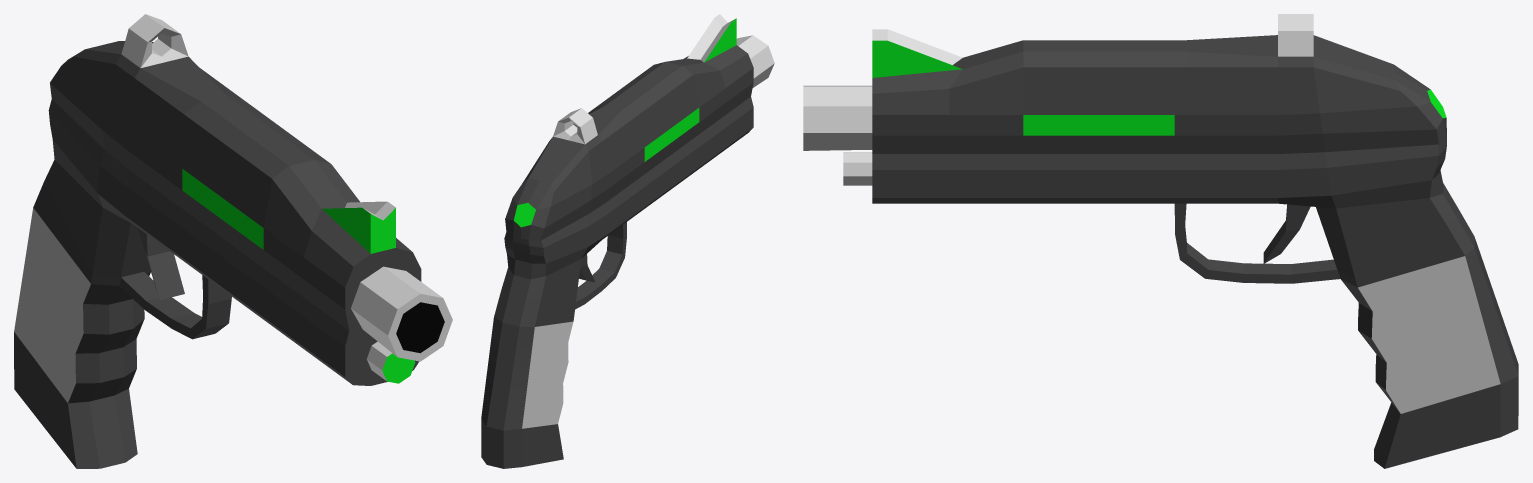
File: Pistol.fbx
3 views of the same model, side by side, from view 1: azimuth 30°, elevation 25°; view 2: azimuth 150°, elevation 25°; view 3: azimuth 270°, elevation 25° (orthographic). The views are drawn at different scales.
Visible parts, largest first — view 1: Pistol; view 2: Pistol; view 3: Pistol.
Boxes of the visible parts, left/top/right/bottom form: Pistol: left=14, top=14, right=452, bottom=468; Pistol: left=481, top=14, right=774, bottom=468; Pistol: left=803, top=14, right=1518, bottom=468.
Bounding box in the file's own units: 3.55 × 21.18 × 31.13.
